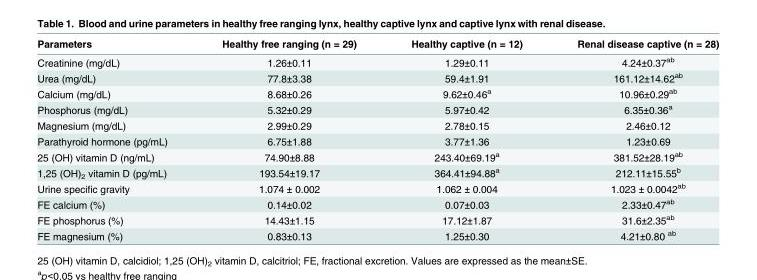table: (36, 37, 718, 241)
table column: (194, 37, 383, 241), (549, 37, 718, 241), (383, 37, 549, 241), (36, 37, 194, 241)
table column header: (36, 37, 718, 51)
table row: (36, 51, 718, 69), (36, 100, 718, 117), (36, 69, 718, 85), (36, 117, 718, 133), (36, 148, 718, 164), (36, 164, 718, 180), (36, 195, 718, 211), (36, 211, 718, 227), (36, 85, 718, 100), (36, 133, 718, 148), (36, 180, 718, 195), (36, 37, 718, 51), (36, 227, 718, 241)
